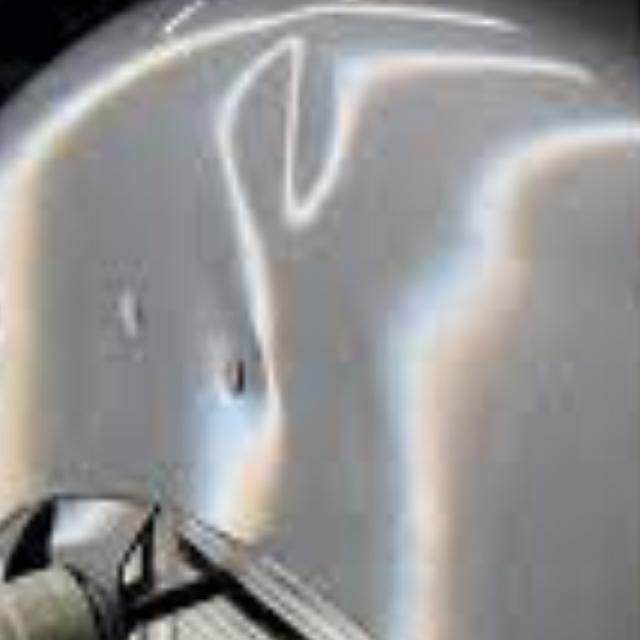dents: (71, 262, 178, 363), (196, 339, 302, 419)
